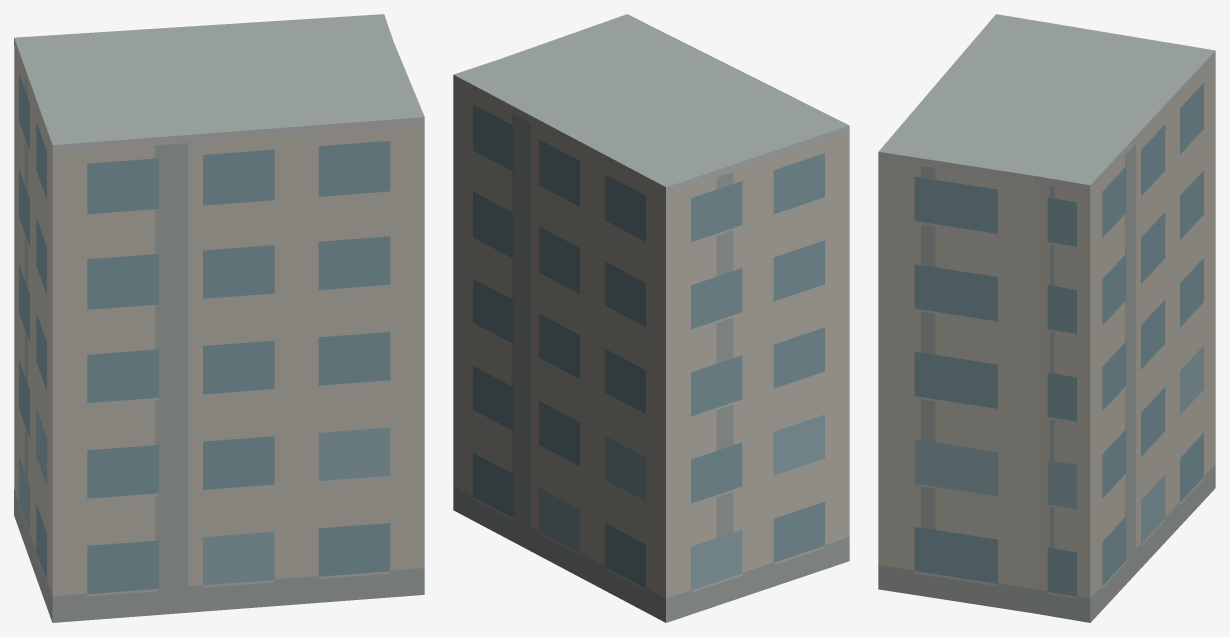
File: survey-upis-32539326.glb
3 renders of one model, left to right at view 1: azimuth 30°, elevation 25°; view 2: azimuth 150°, elevation 25°; view 3: azimuth 270°, elevation 25°, orthographic. The views are drawn at different scales.
Parts seen in each view (by area): view 1: survey-upis-32539326.tmp; view 2: survey-upis-32539326.tmp; view 3: survey-upis-32539326.tmp.
Part boxes in pixels (x1,y1,x2,y2): survey-upis-32539326.tmp: (14, 14, 424, 622); survey-upis-32539326.tmp: (453, 14, 849, 622); survey-upis-32539326.tmp: (878, 14, 1215, 622).
Size of the model in its own units: 12.1 by 14.4 by 10.07.
